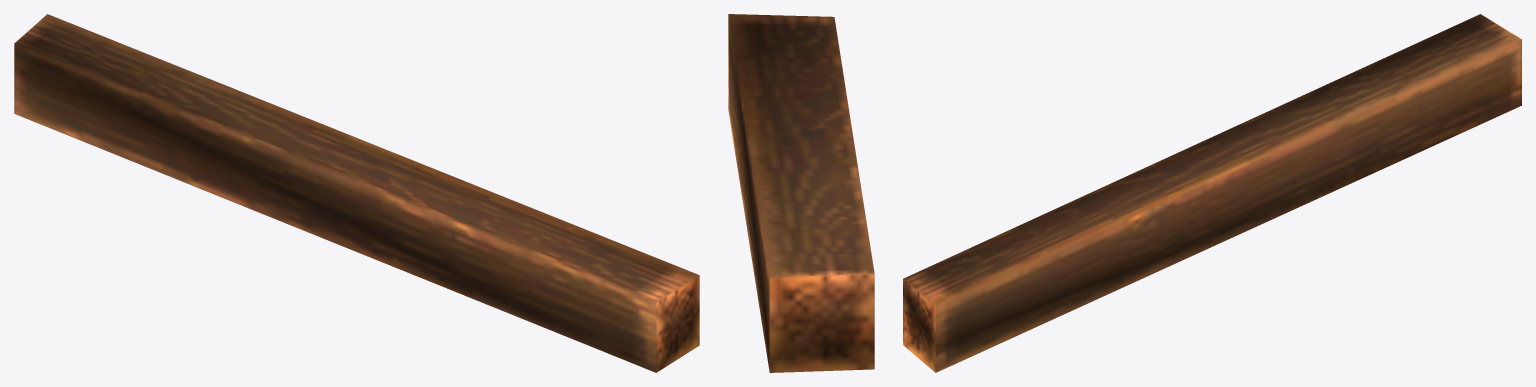
Rendered from SWORDLIGHT20_JAILBRACE09.fbx.
3 views of the same model, side by side, from view 1: azimuth 30°, elevation 25°; view 2: azimuth 150°, elevation 25°; view 3: azimuth 270°, elevation 25° (orthographic). The views are drawn at different scales.
Parts seen in each view (by area): view 1: SWORDLIGHT20_JAILBRACE09; view 2: SWORDLIGHT20_JAILBRACE09; view 3: SWORDLIGHT20_JAILBRACE09.
Boxes of the visible parts, box(x1,y1,x2,y2) form: SWORDLIGHT20_JAILBRACE09: box(14, 14, 699, 372); SWORDLIGHT20_JAILBRACE09: box(728, 14, 874, 372); SWORDLIGHT20_JAILBRACE09: box(903, 14, 1521, 372).
Bounding box in the file's own units: 23639 × 10663 × 33886.
Materials: 1 (1 with a texture image).
